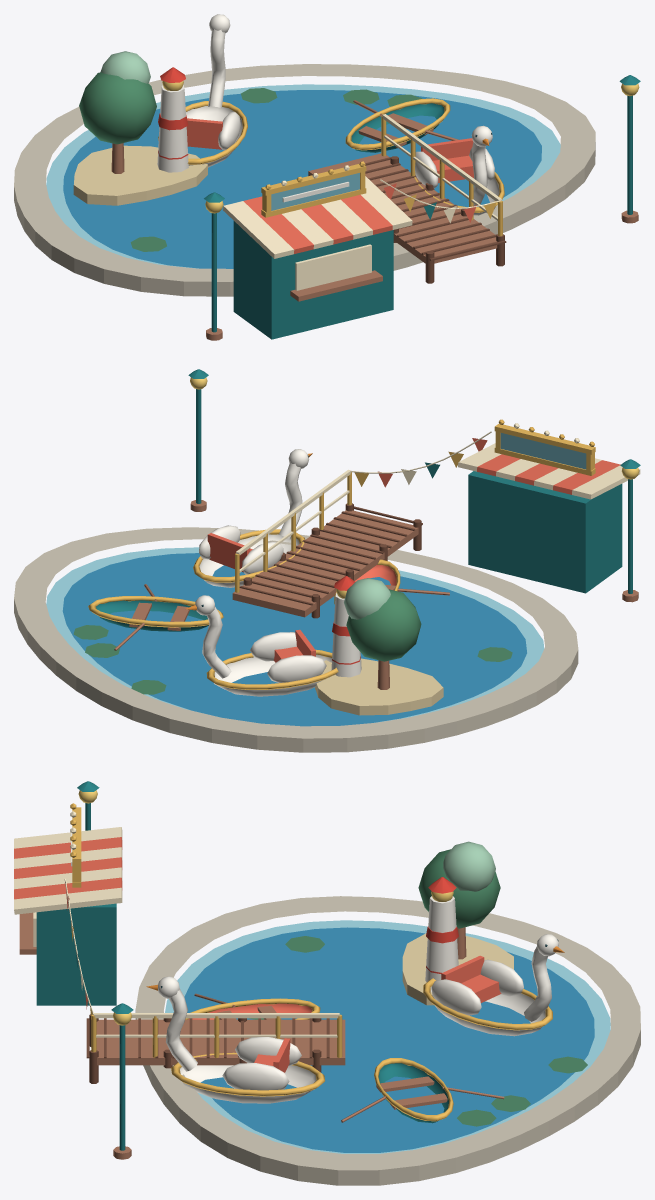
The model's file is ride_boats.glb.
3 renders of one model, top to bottom at view 1: azimuth 30°, elevation 25°; view 2: azimuth 150°, elevation 25°; view 3: azimuth 270°, elevation 25°, orthographic. The views are drawn at different scales.
Visible parts, largest first — view 1: ride_boats; view 2: ride_boats; view 3: ride_boats.
Boxes of the visible parts, left/top/right/bottom form: ride_boats: left=14, top=14, right=640, bottom=340; ride_boats: left=14, top=369, right=640, bottom=752; ride_boats: left=14, top=781, right=640, bottom=1185.
Bounding box in the file's own units: 11.35 × 2.98 × 10.97.
